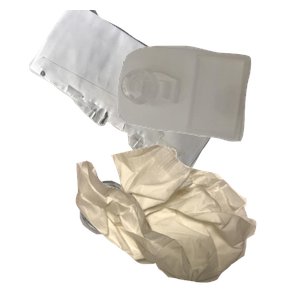glass: (77, 178, 205, 300)
paper: (27, 10, 252, 187)
plastic: (115, 43, 300, 177)
trash: (73, 142, 300, 300)
